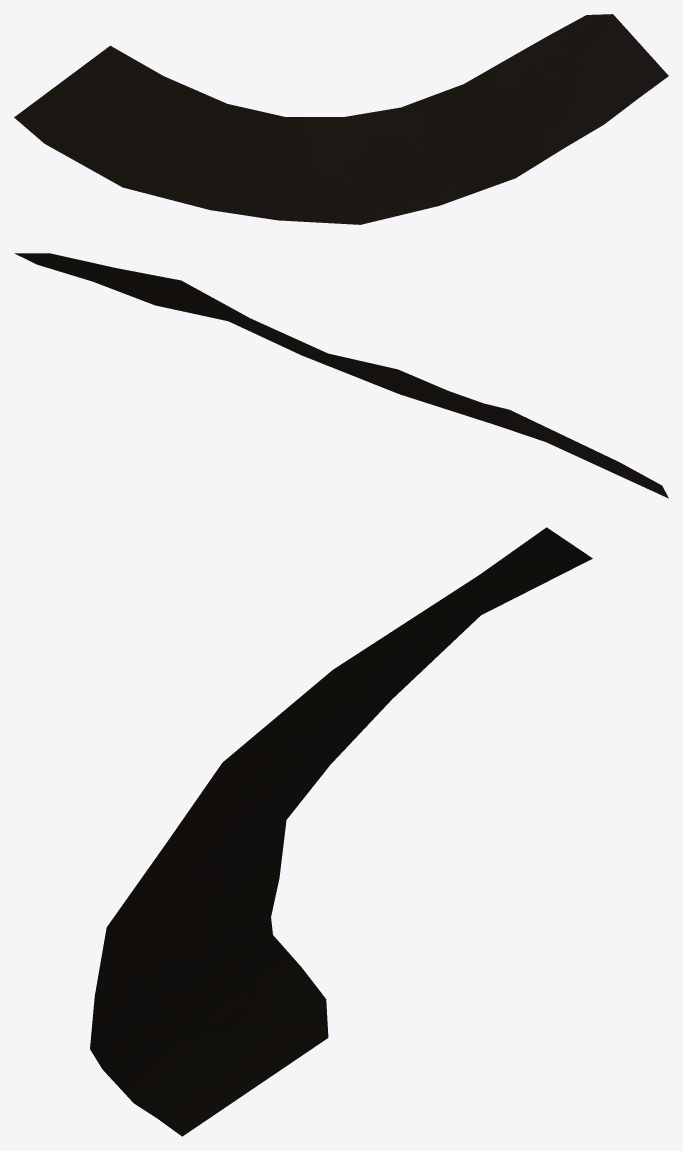
Rendered from Lash_RDown.fbx.
3 views of the same model, one above another, from view 1: azimuth 30°, elevation 25°; view 2: azimuth 150°, elevation 25°; view 3: azimuth 270°, elevation 25° (orthographic). The views are drawn at different scales.
Parts seen in each view (by area): view 1: LashR_Down; view 2: LashR_Down; view 3: LashR_Down.
Part boxes in pixels (<box>): LashR_Down: <box>14,14,668,224</box>; LashR_Down: <box>14,253,668,498</box>; LashR_Down: <box>90,527,592,1136</box>.
Bounding box in the file's own units: 3.22 × 0.6639 × 1.24.
1 material, 1 textured.
